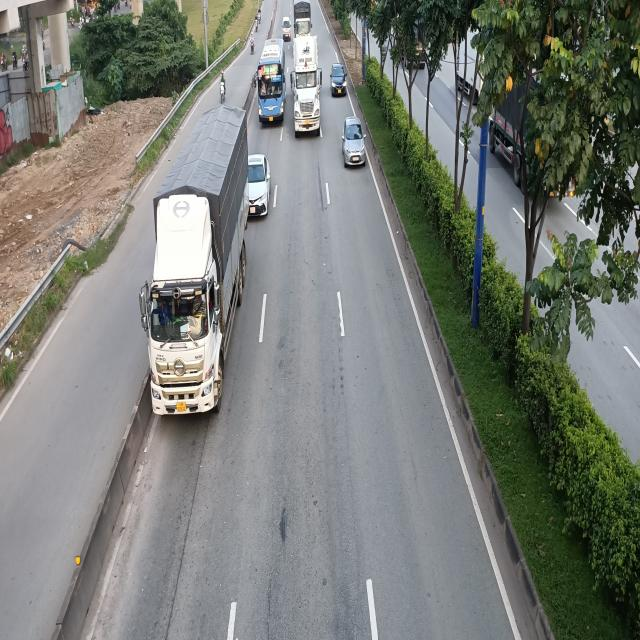car: (247, 154, 271, 218), (342, 116, 367, 166), (329, 62, 347, 97)
coach: (255, 38, 288, 124)
container: (290, 35, 322, 136)
truck: (139, 103, 248, 416), (293, 1, 311, 36)
van: (282, 15, 291, 40)
